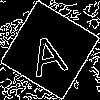A: (25, 25, 70, 78)
